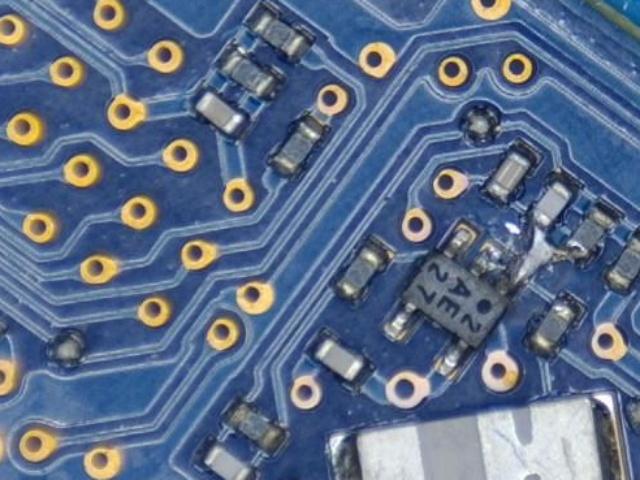pcb_defect: (478, 208, 588, 288)
